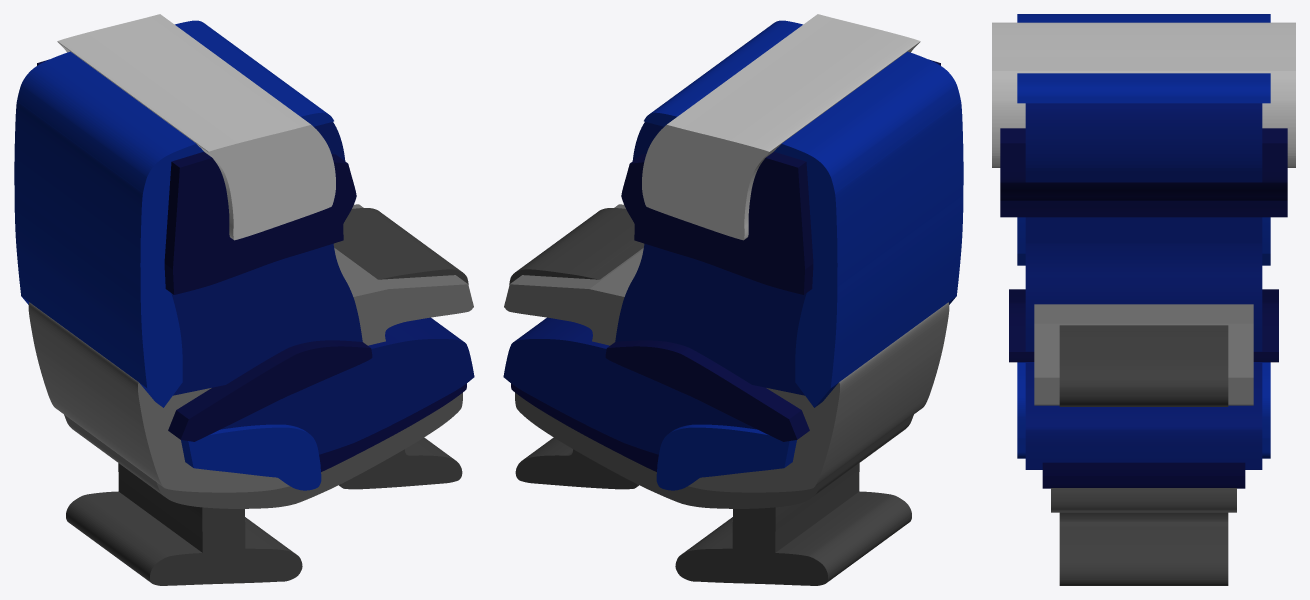
The picture shows the model from 3 angles, left to right: view 1: azimuth 30°, elevation 25°; view 2: azimuth 150°, elevation 25°; view 3: azimuth 270°, elevation 25°; orthographic projection.
Visible parts, largest first — view 1: U+1F4BA_layer05_obj01, U+1F4BA_layer08_obj00, U+1F4BA_layer04_obj02, U+1F4BA_layer00_obj00, U+1F4BA_layer03_obj00, U+1F4BA_layer04_obj00, U+1F4BA_layer07_obj00, U+1F4BA_layer06_obj00, U+1F4BA_layer05_obj00, U+1F4BA_layer01_obj00, U+1F4BA_layer03_obj01, U+1F4BA_layer00_obj03 (+2 smaller); view 2: U+1F4BA_layer05_obj01, U+1F4BA_layer08_obj00, U+1F4BA_layer04_obj02, U+1F4BA_layer00_obj00, U+1F4BA_layer03_obj00, U+1F4BA_layer04_obj00, U+1F4BA_layer07_obj00, U+1F4BA_layer06_obj00, U+1F4BA_layer05_obj00, U+1F4BA_layer01_obj00, U+1F4BA_layer03_obj01, U+1F4BA_layer00_obj03 (+2 smaller); view 3: U+1F4BA_layer04_obj02, U+1F4BA_layer08_obj00, U+1F4BA_layer04_obj03, U+1F4BA_layer04_obj00, U+1F4BA_layer00_obj03, U+1F4BA_layer07_obj00, U+1F4BA_layer00_obj02, U+1F4BA_layer05_obj01, U+1F4BA_layer03_obj01, U+1F4BA_layer02_obj00, U+1F4BA_layer01_obj00, U+1F4BA_layer06_obj00 (+1 smaller).
Boxes of the visible parts, x1=… form: U+1F4BA_layer05_obj01: x1=14, y1=20, x2=333, y2=407; U+1F4BA_layer08_obj00: x1=57, y1=14, x2=335, y2=240; U+1F4BA_layer04_obj02: x1=171, y1=243, x2=362, y2=395; U+1F4BA_layer00_obj00: x1=66, y1=463, x2=302, y2=585; U+1F4BA_layer03_obj00: x1=28, y1=302, x2=289, y2=492; U+1F4BA_layer04_obj00: x1=220, y1=317, x2=474, y2=454; U+1F4BA_layer07_obj00: x1=37, y1=59, x2=356, y2=294; U+1F4BA_layer06_obj00: x1=168, y1=340, x2=372, y2=441; U+1F4BA_layer05_obj00: x1=181, y1=424, x2=321, y2=490; U+1F4BA_layer01_obj00: x1=64, y1=393, x2=462, y2=508; U+1F4BA_layer03_obj01: x1=334, y1=204, x2=473, y2=345; U+1F4BA_layer00_obj03: x1=333, y1=208, x2=468, y2=284; U+1F4BA_layer05_obj01: x1=644, y1=20, x2=963, y2=407; U+1F4BA_layer08_obj00: x1=642, y1=14, x2=920, y2=240; U+1F4BA_layer04_obj02: x1=615, y1=243, x2=806, y2=395; U+1F4BA_layer00_obj00: x1=675, y1=463, x2=911, y2=585; U+1F4BA_layer03_obj00: x1=688, y1=302, x2=949, y2=492; U+1F4BA_layer04_obj00: x1=503, y1=317, x2=757, y2=454; U+1F4BA_layer07_obj00: x1=621, y1=59, x2=940, y2=294; U+1F4BA_layer06_obj00: x1=605, y1=340, x2=809, y2=441; U+1F4BA_layer05_obj00: x1=656, y1=424, x2=796, y2=490; U+1F4BA_layer01_obj00: x1=515, y1=393, x2=913, y2=508; U+1F4BA_layer03_obj01: x1=504, y1=204, x2=643, y2=345; U+1F4BA_layer00_obj03: x1=509, y1=208, x2=644, y2=284; U+1F4BA_layer04_obj02: x1=1025, y1=217, x2=1262, y2=351; U+1F4BA_layer08_obj00: x1=992, y1=22, x2=1295, y2=167; U+1F4BA_layer04_obj03: x1=1025, y1=103, x2=1262, y2=182; U+1F4BA_layer04_obj00: x1=1025, y1=362, x2=1262, y2=469; U+1F4BA_layer00_obj03: x1=1059, y1=325, x2=1228, y2=406; U+1F4BA_layer07_obj00: x1=1000, y1=128, x2=1287, y2=217; U+1F4BA_layer00_obj02: x1=1059, y1=512, x2=1228, y2=585; U+1F4BA_layer05_obj01: x1=1017, y1=14, x2=1270, y2=265; U+1F4BA_layer03_obj01: x1=1034, y1=304, x2=1253, y2=405; U+1F4BA_layer02_obj00: x1=1042, y1=462, x2=1245, y2=488; U+1F4BA_layer01_obj00: x1=1051, y1=488, x2=1236, y2=512; U+1F4BA_layer06_obj00: x1=1009, y1=289, x2=1278, y2=362.
Size of the model in its own units: 0.2399 by 0.3173 by 0.18.
